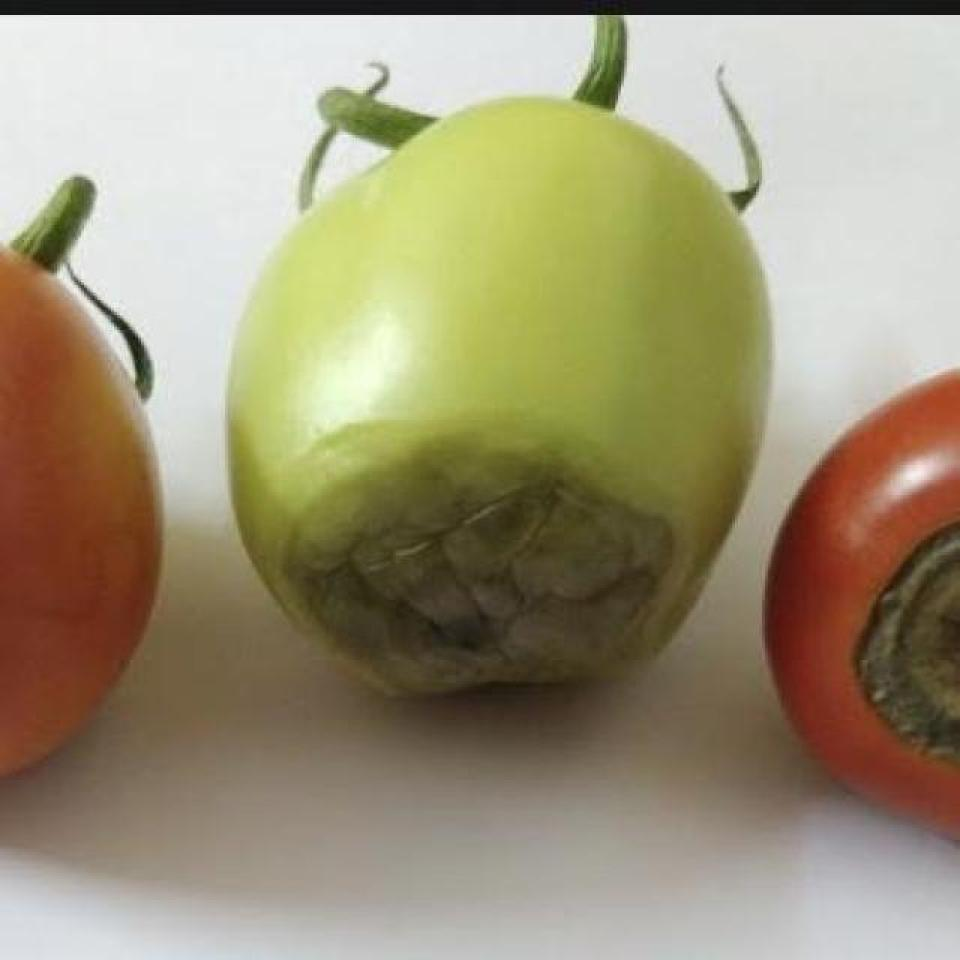Blossom_end_rot: (274, 419, 678, 694), (843, 518, 957, 772)
